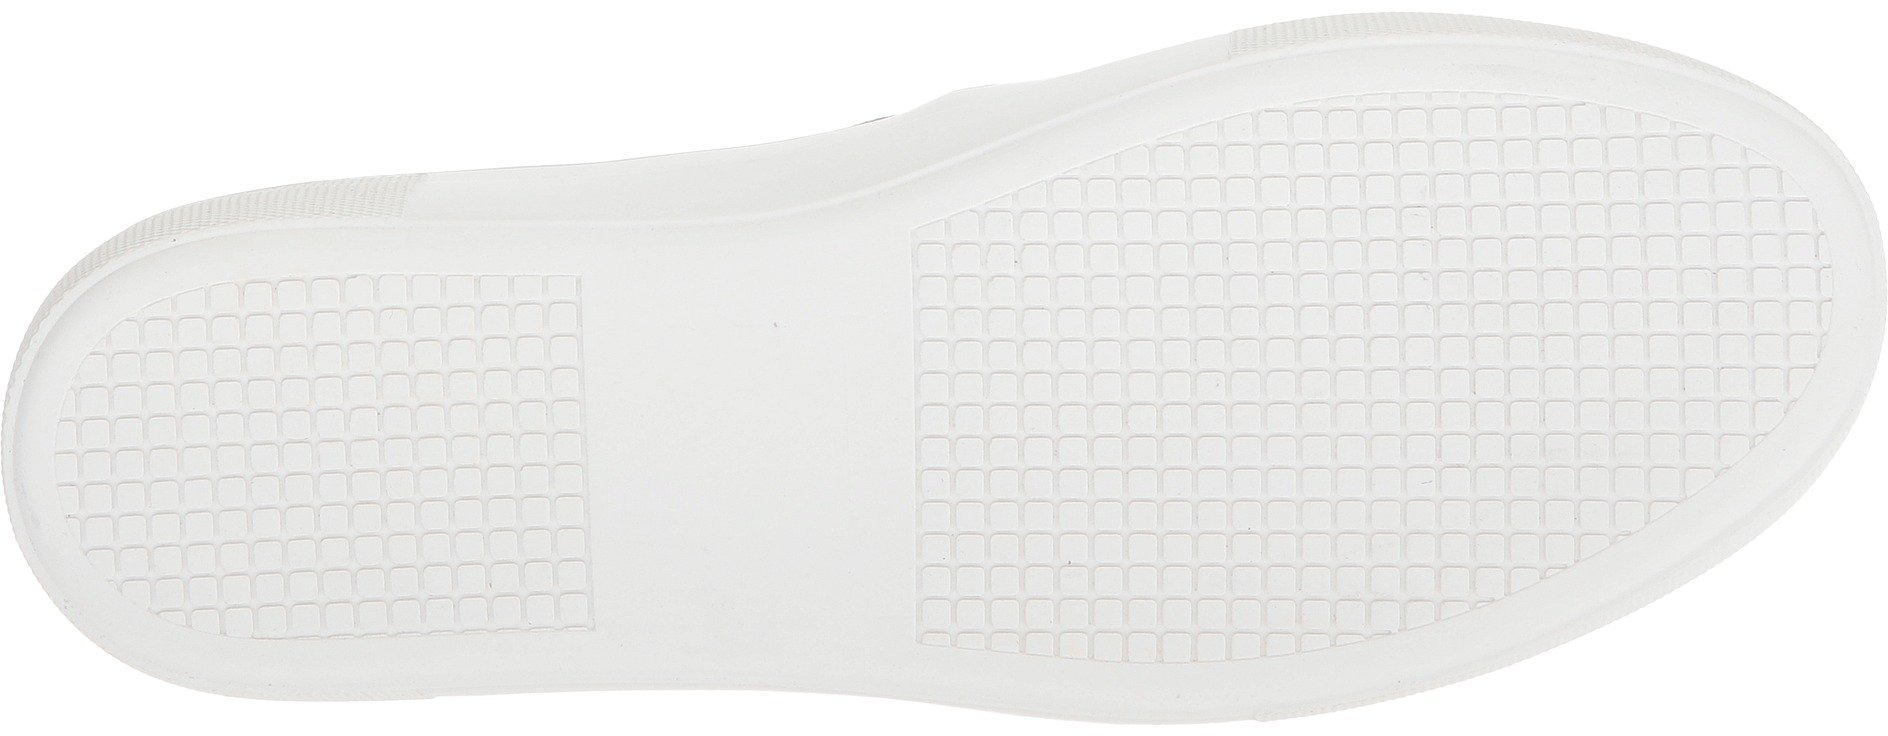quad: (909, 89, 1828, 666)
